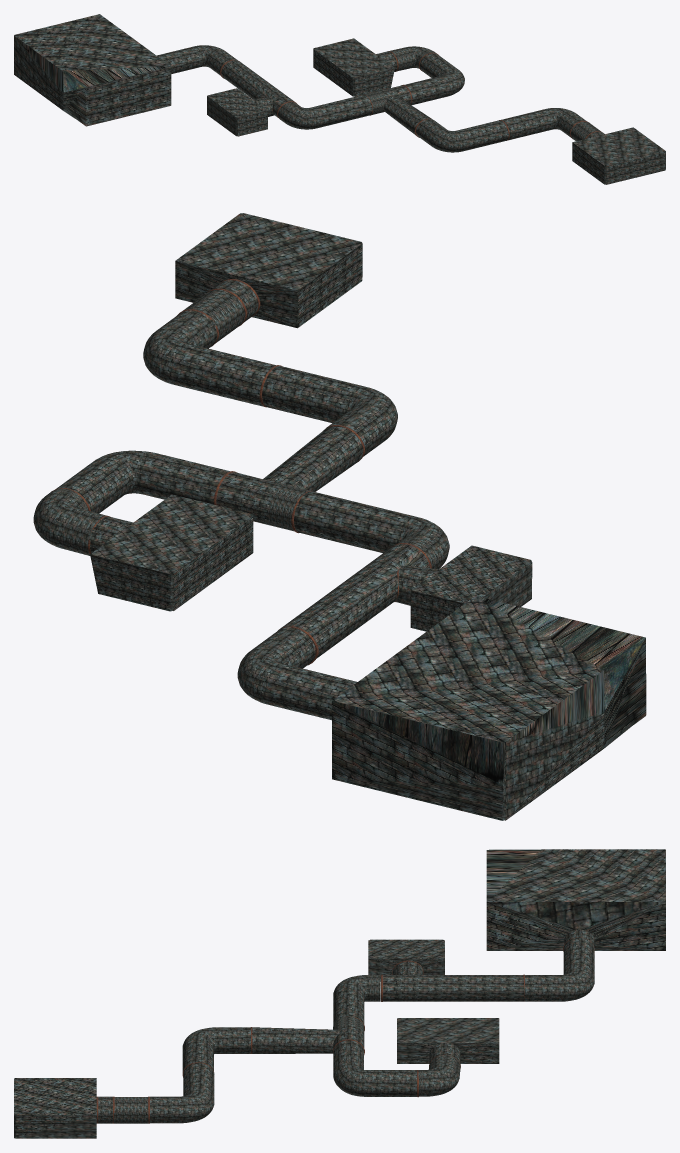
The model's file is tunnels_notreunwrapped 1.fbx.
3 renders of one model, top to bottom at view 1: azimuth 30°, elevation 25°; view 2: azimuth 150°, elevation 25°; view 3: azimuth 270°, elevation 25°, orthographic. The views are drawn at different scales.
Visible parts, largest first — view 1: polySurface6, Cylinder0013, Cylinder0012, polySurface7; view 2: polySurface6, Cylinder0013, Cylinder0012, polySurface7; view 3: polySurface6, Cylinder0013, Cylinder0012, polySurface7.
Boxes of the visible parts, x1,y1,x2,y2 form: polySurface6: (157,38,665,184); Cylinder0013: (14,14,171,126); Cylinder0012: (207,88,274,136); polySurface7: (390,46,436,71); polySurface6: (56,213,449,720); Cylinder0013: (332,596,646,820); Cylinder0012: (395,545,532,631); polySurface7: (33,488,107,555); polySurface6: (14,938,594,1138); Cylinder0013: (486,849,665,950); Cylinder0012: (368,939,444,981); polySurface7: (418,1055,460,1096).
Size of the model in its own units: 4282 by 421 by 4928.
4 materials, 4 textured.
